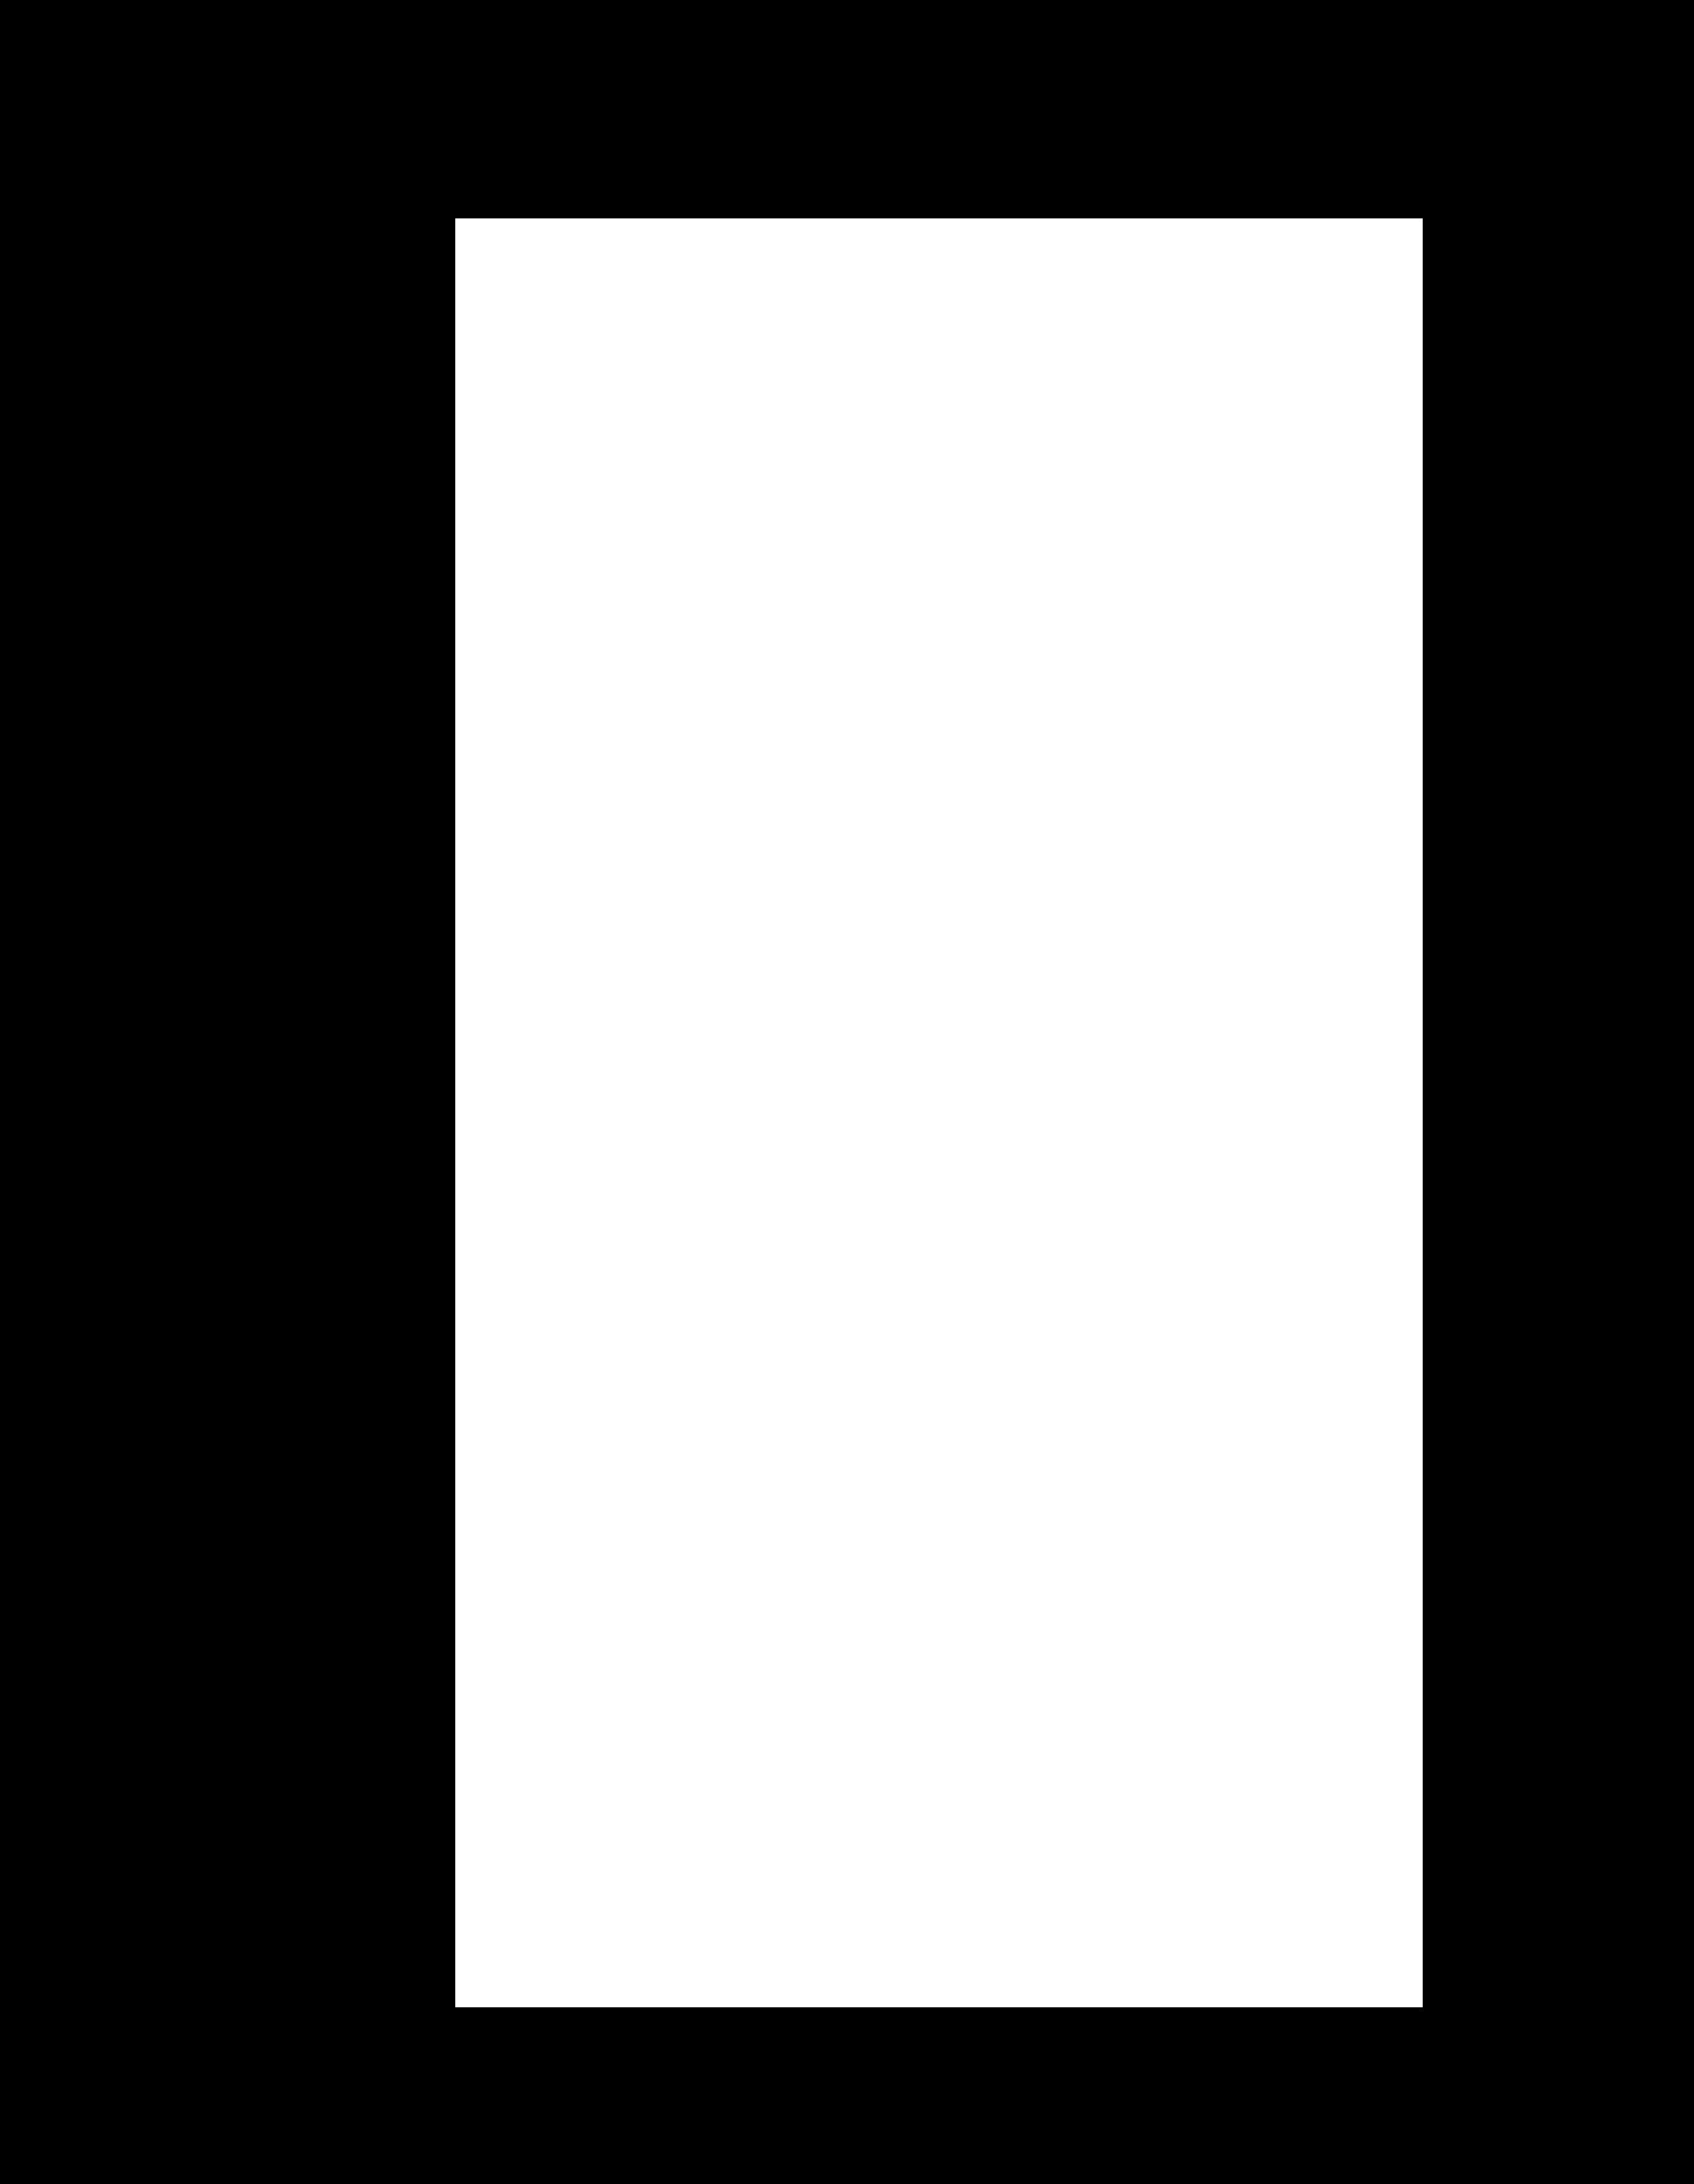table: (455, 218, 1423, 2007)
